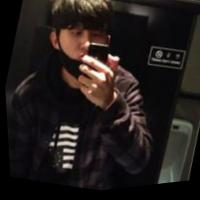WRONG: (47, 13, 116, 87)
